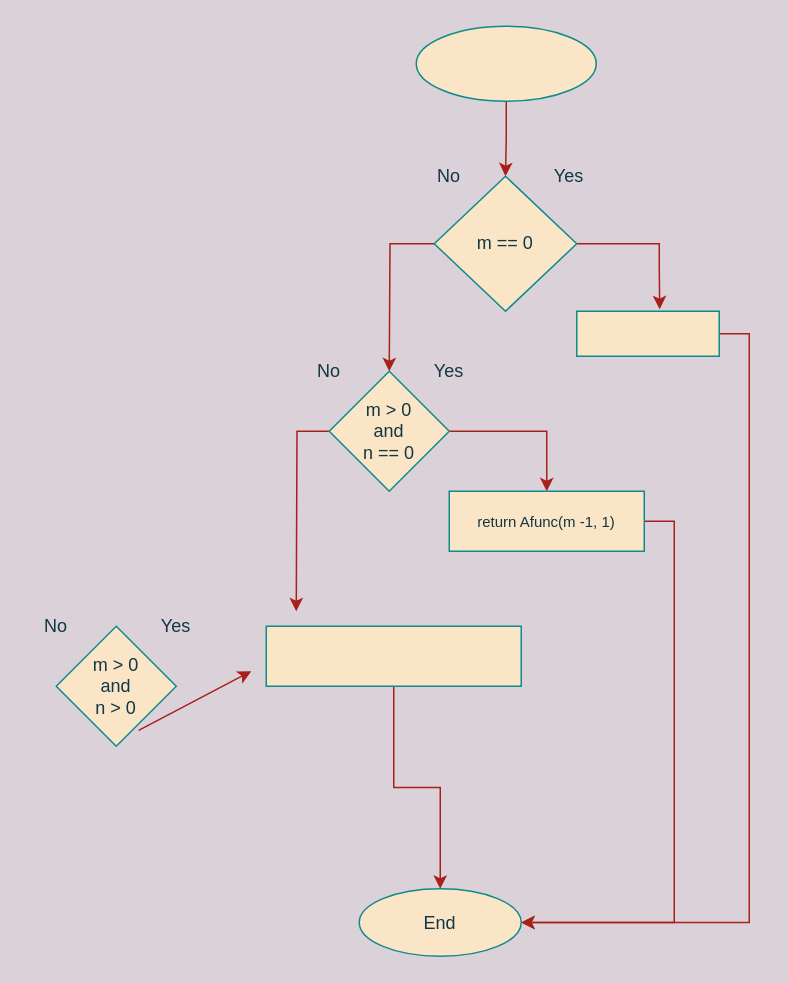
The diagram is 788 pixels wide and 983 high, and some of its shapes have lost their labels. The shapes that lost their labels are listed below. From the top down, each one's centre as x and y in pixels, then its label:
At [505,63]: "Ackermann func (Afunc) (m,n)".
At [647,333]: "return n+1".
At [393,655]: "return Afunc(m -1 , Afunc(m, n -1))".
